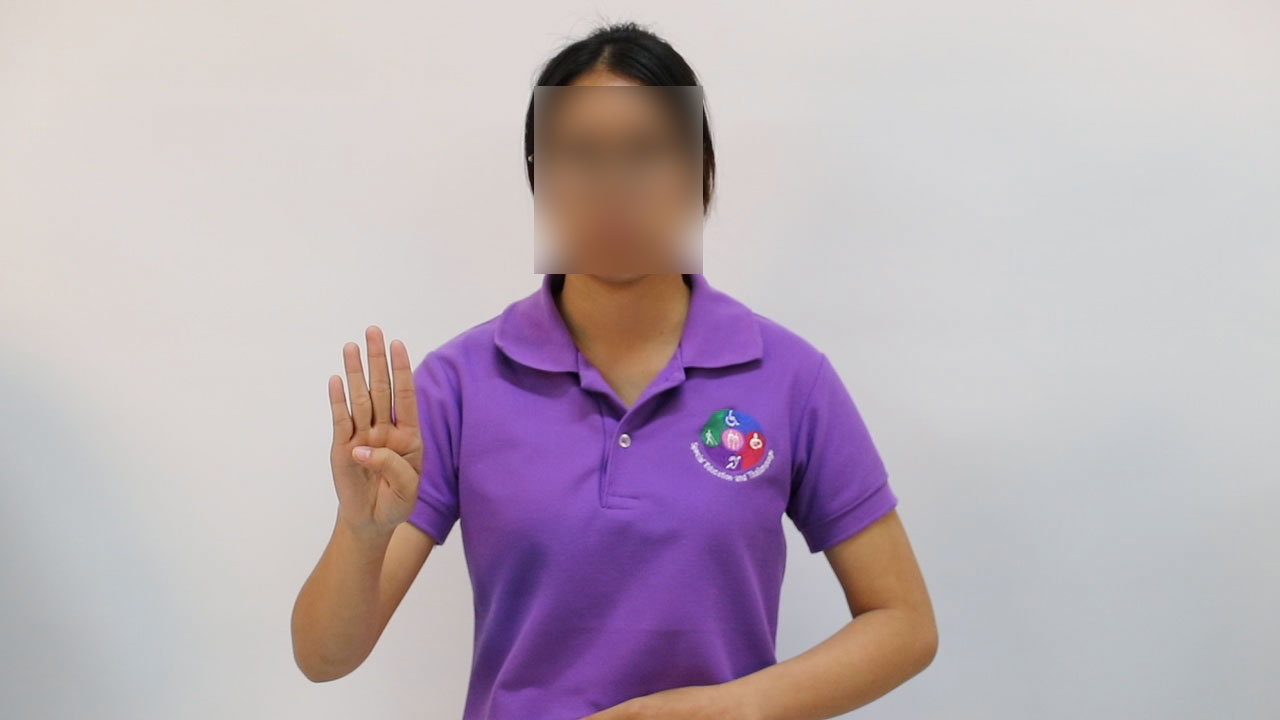bor: (313, 306, 439, 553)
